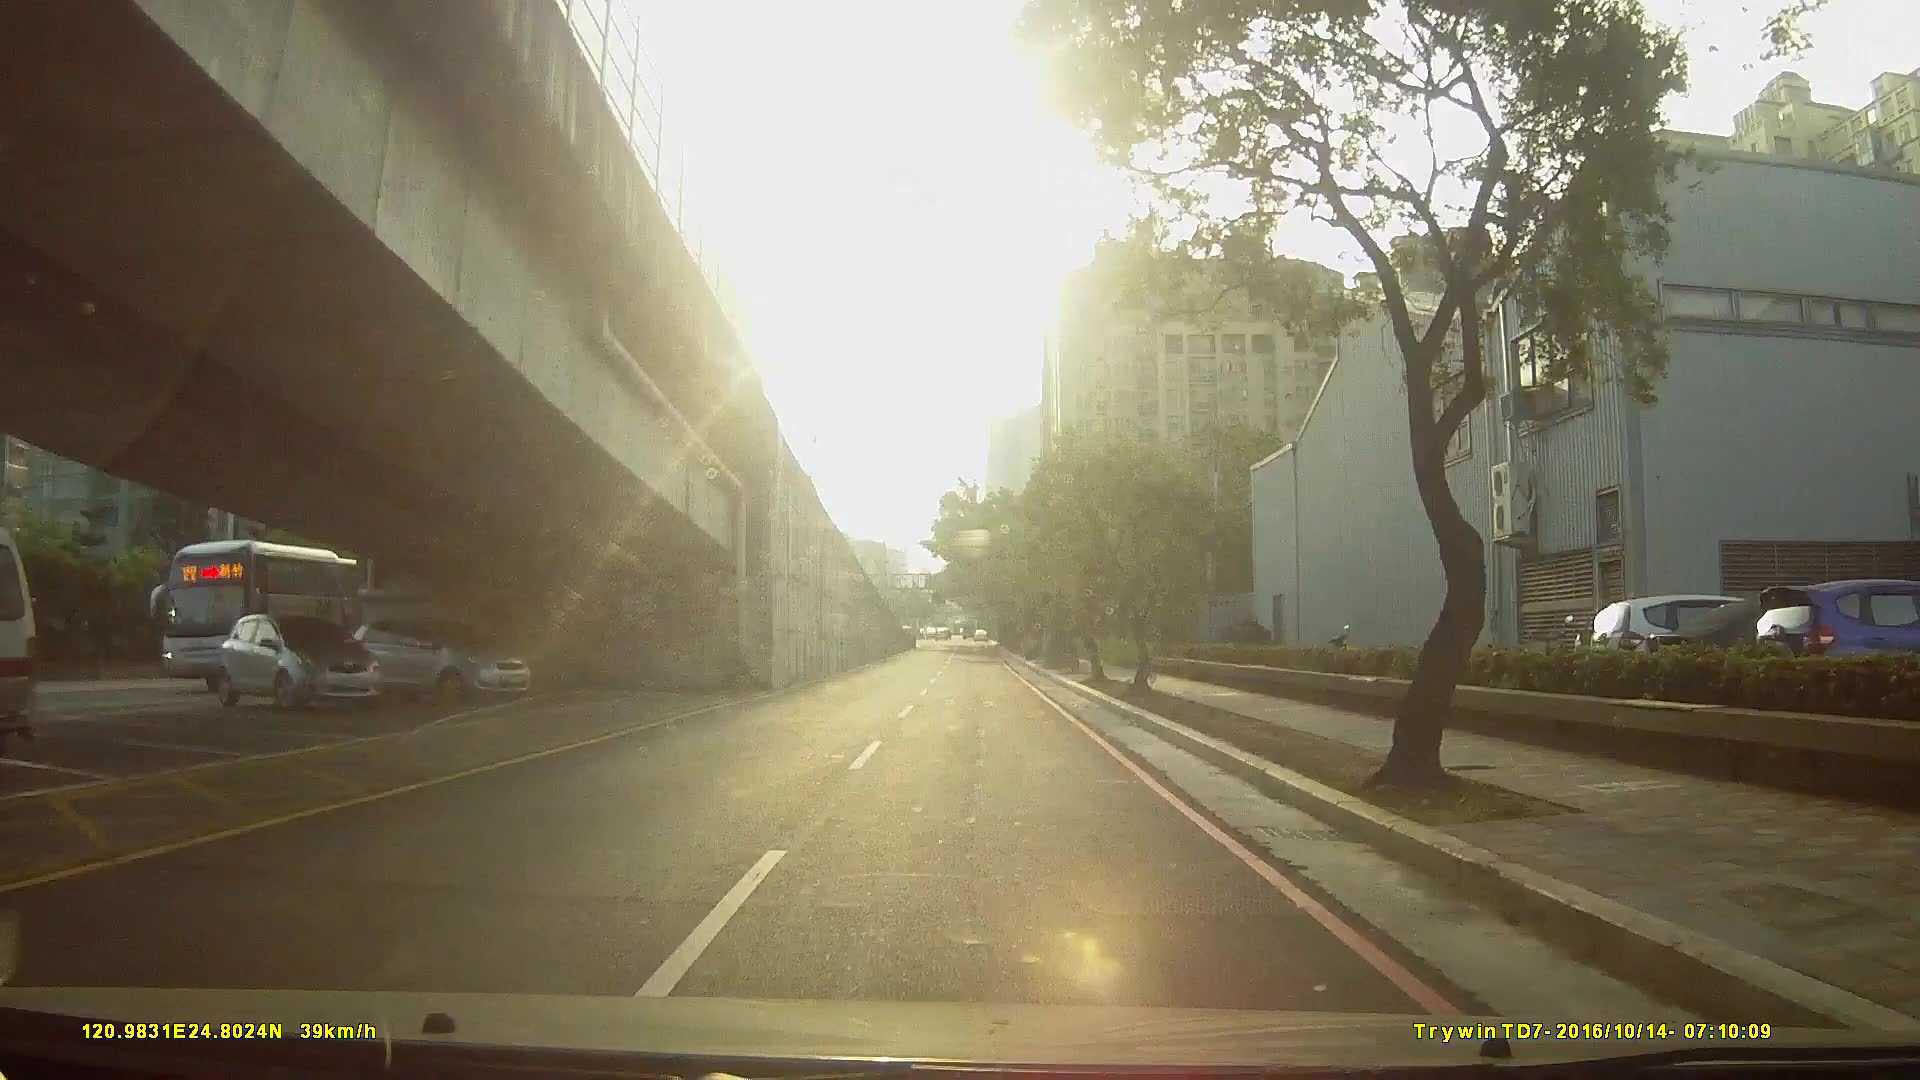vehicle: (146, 534, 434, 700), (203, 609, 372, 711), (338, 617, 525, 705)
